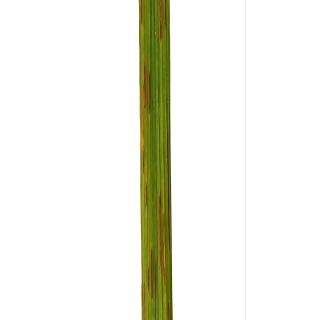Bercak-Cokelat-Sempit: (140, 60, 147, 175), (157, 1, 165, 48), (146, 66, 153, 117), (154, 245, 160, 302), (158, 189, 163, 250), (141, 279, 146, 320), (143, 179, 149, 211), (139, 0, 144, 29), (147, 267, 151, 292), (166, 300, 171, 320)
